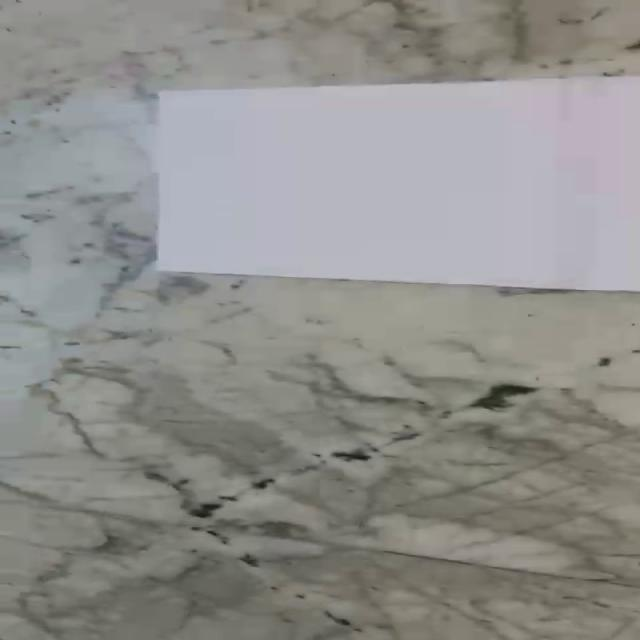road: (156, 76, 640, 293)
